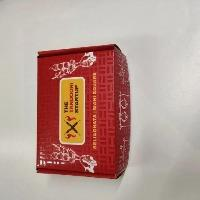undamaged: (28, 44, 135, 184)
